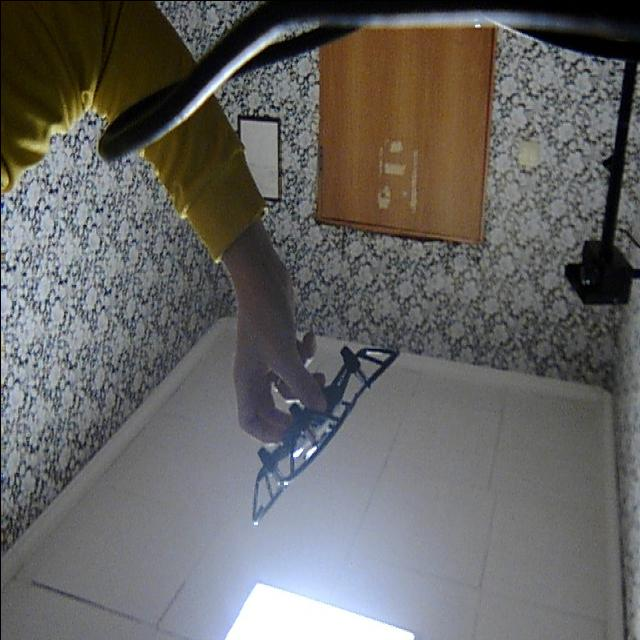drone: (238, 324, 400, 530)
